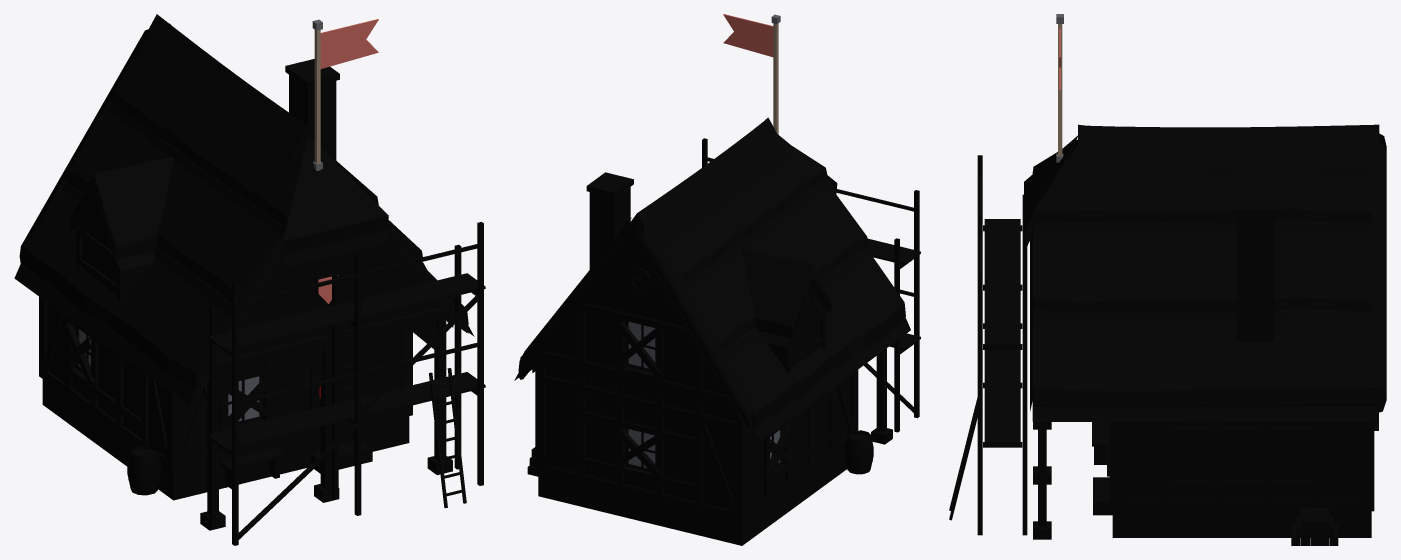
The model's file is wohnhaus_halbling_s1_g4.glb.
3 renders of one model, left to right at view 1: azimuth 30°, elevation 25°; view 2: azimuth 150°, elevation 25°; view 3: azimuth 270°, elevation 25°, orthographic. The views are drawn at different scales.
Parts seen in each view (by area): view 1: Dach, Haus, Geruest, Fahne, Leerstand, Scheiben; view 2: Haus, Dach, Geruest, Leerstand, Fahne, Scheiben; view 3: Dach, Haus, Geruest, Fahne.
Boxes of the visible parts, <box> form: Dach: <box>14,14,474,404</box>; Haus: <box>39,59,452,530</box>; Geruest: <box>208,222,485,545</box>; Fahne: <box>312,19,378,170</box>; Leerstand: <box>62,323,366,435</box>; Scheiben: <box>79,329,259,421</box>; Haus: <box>527,172,892,545</box>; Dach: <box>514,117,910,440</box>; Geruest: <box>702,138,920,432</box>; Leerstand: <box>615,321,794,477</box>; Fahne: <box>723,14,780,134</box>; Scheiben: <box>628,322,780,468</box>; Dach: <box>1023,124,1386,422</box>; Haus: <box>1033,194,1374,545</box>; Geruest: <box>949,155,1027,535</box>; Fahne: <box>1056,14,1063,162</box>.
Size of the model in its own units: 6.29 by 9.51 by 8.1.
